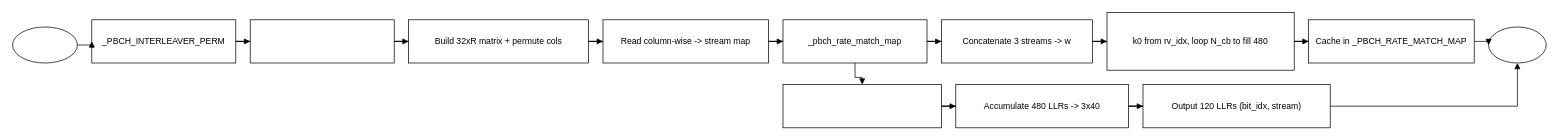
Some shapes in this 1559 by 140 pixel diagram are drawn without their labels. Here are the shapes that lost their labels. From the top down, the centre of each, then its label:
At [44,44]: "Start".
At [321,41]: "_pbch_subblock_interleave".
At [1517,44]: "End".
At [861,106]: "deratematch_pbch_llrs".
